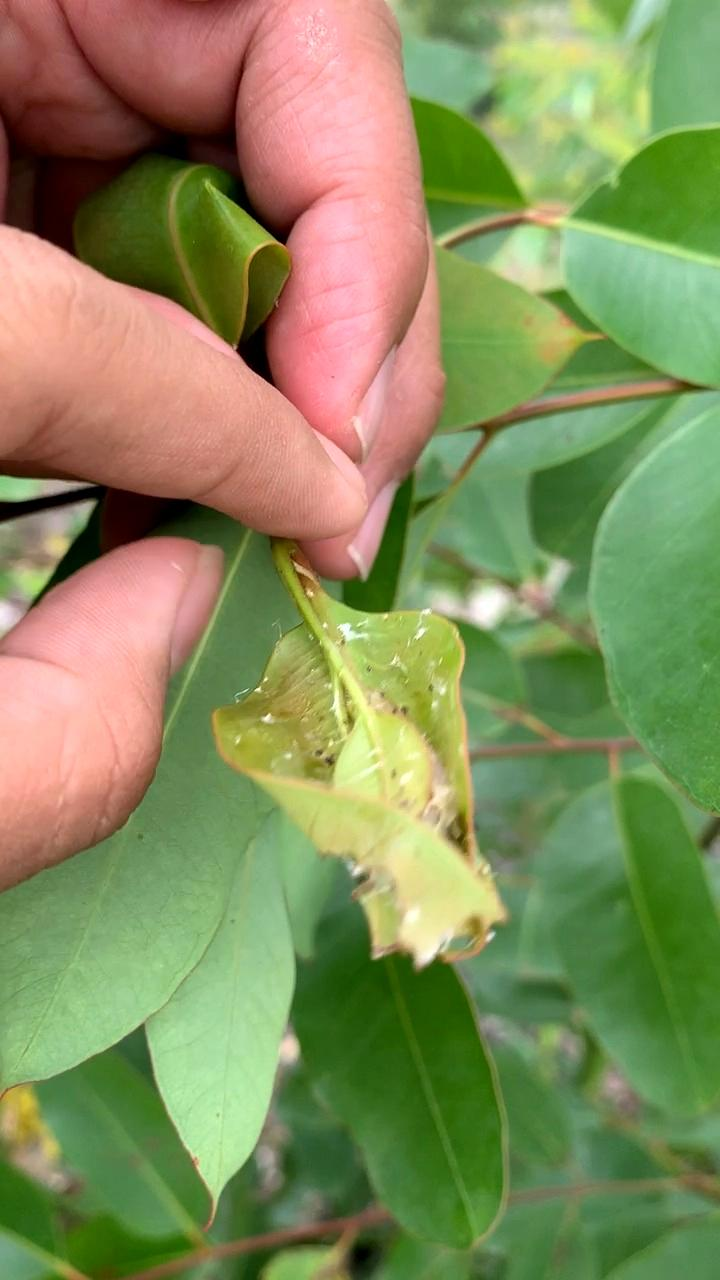Leaf Roller - Leaf: (198, 590, 553, 985)
